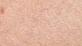plaque psoriasis: (0, 6, 6, 17)
